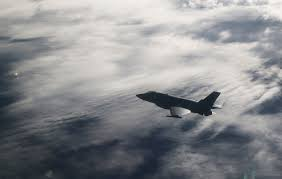fighter: (133, 87, 226, 120)
